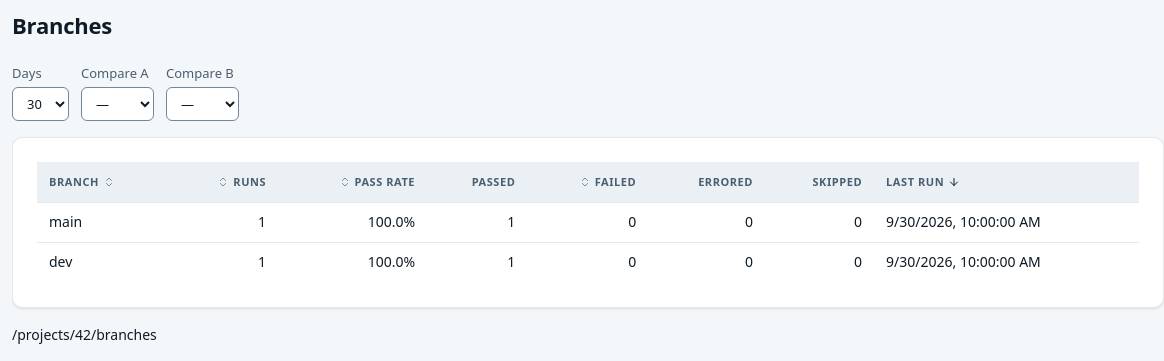
Scenario: Branches › changes update the URL
Select "90" in the dropdown labelled "Days" at [40, 104], box [12, 87, 69, 121]
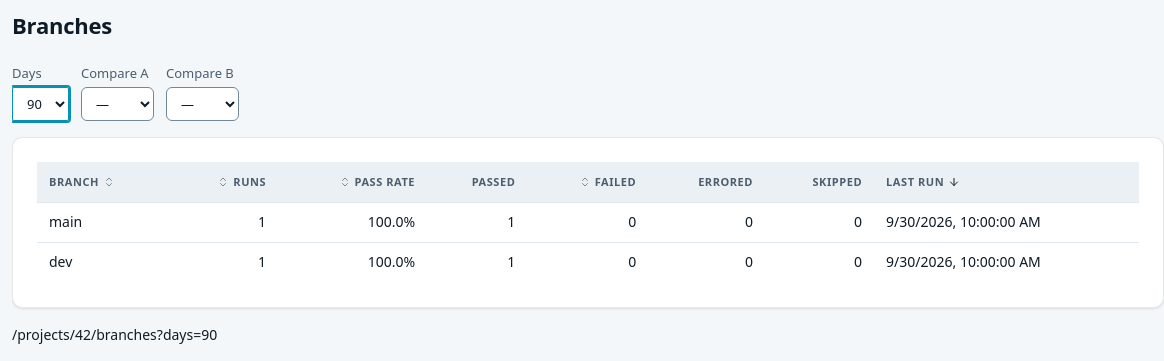
Expected: the text with test id "where" reads "/projects/42/branches?days=90", [12, 324, 217, 344]
